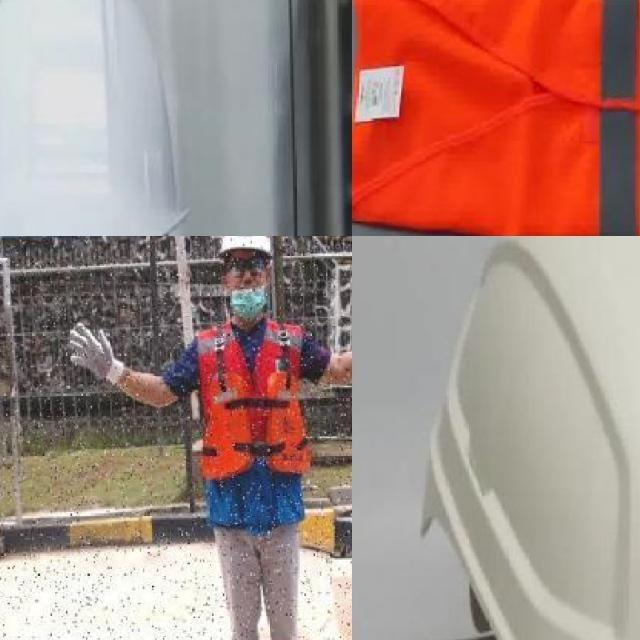apron: (67, 322, 126, 390)
